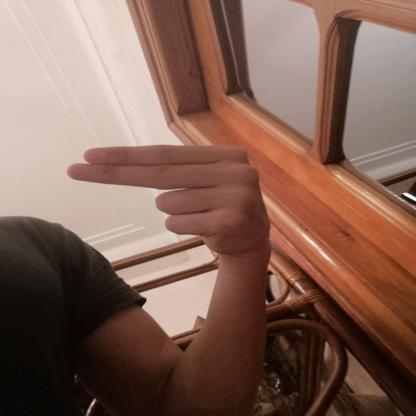AYN: (53, 129, 287, 268)
